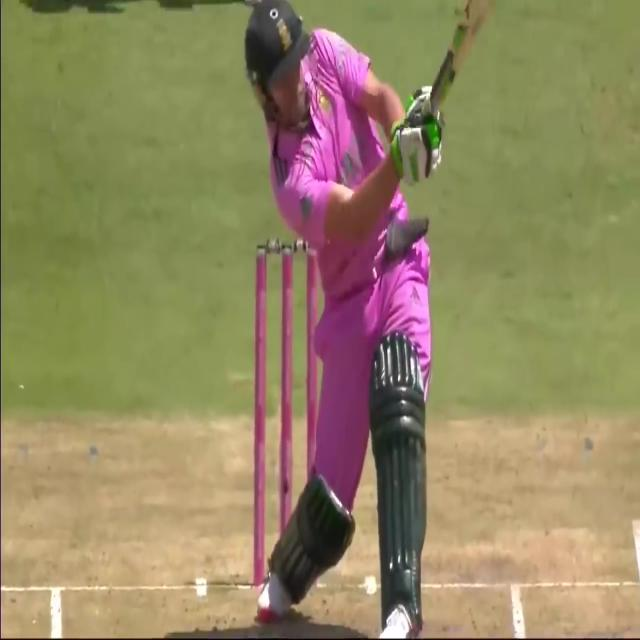Ball: (251, 0, 470, 637)
